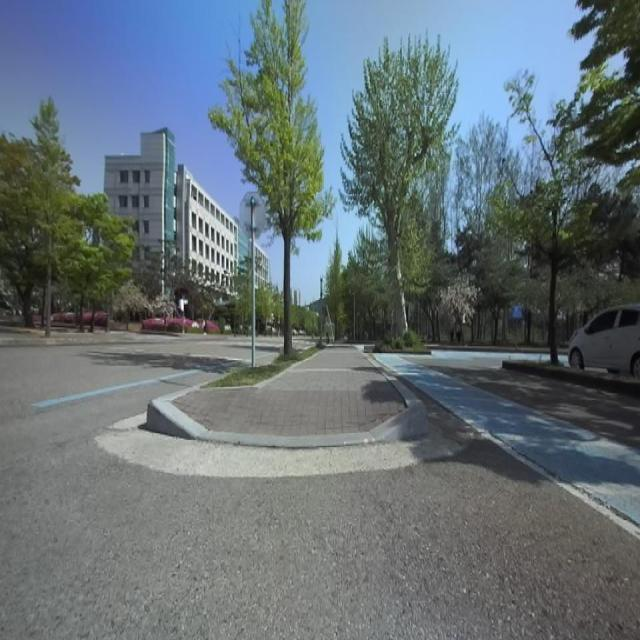sidewalk: (174, 347, 405, 436)
